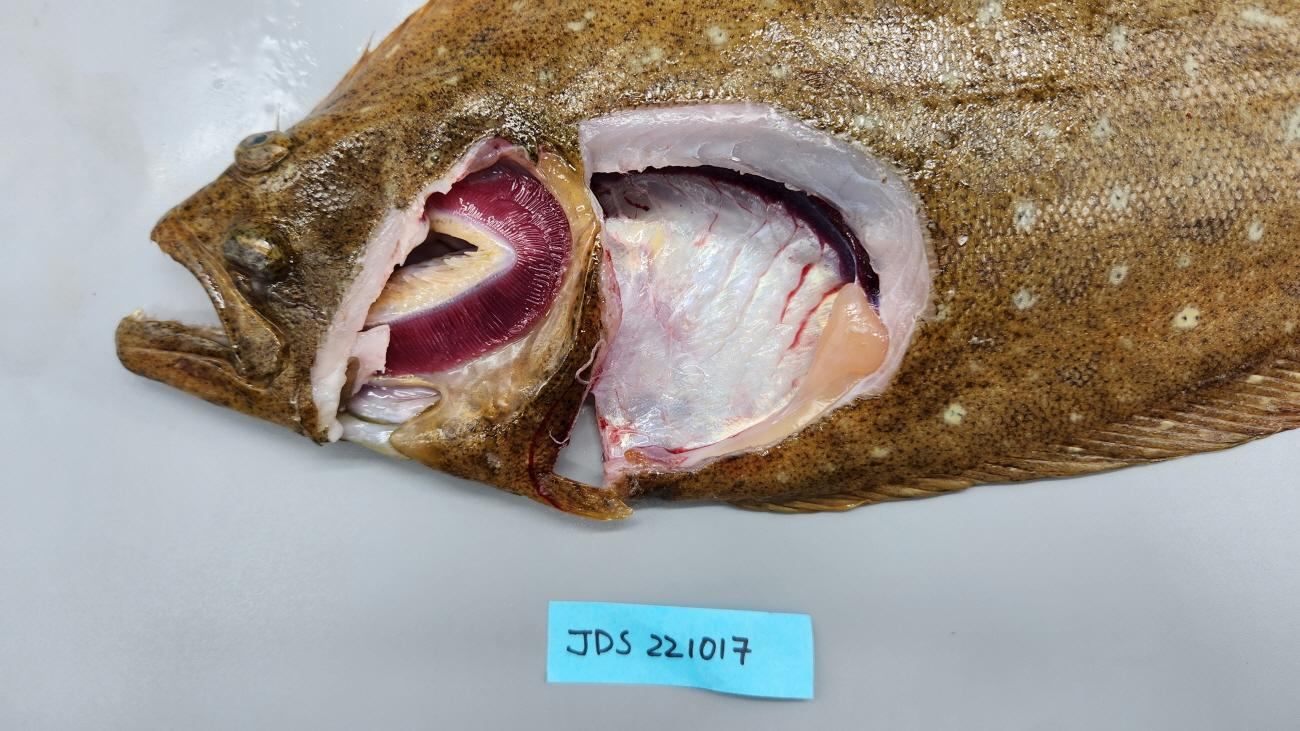POASN: (589, 172, 845, 461)
